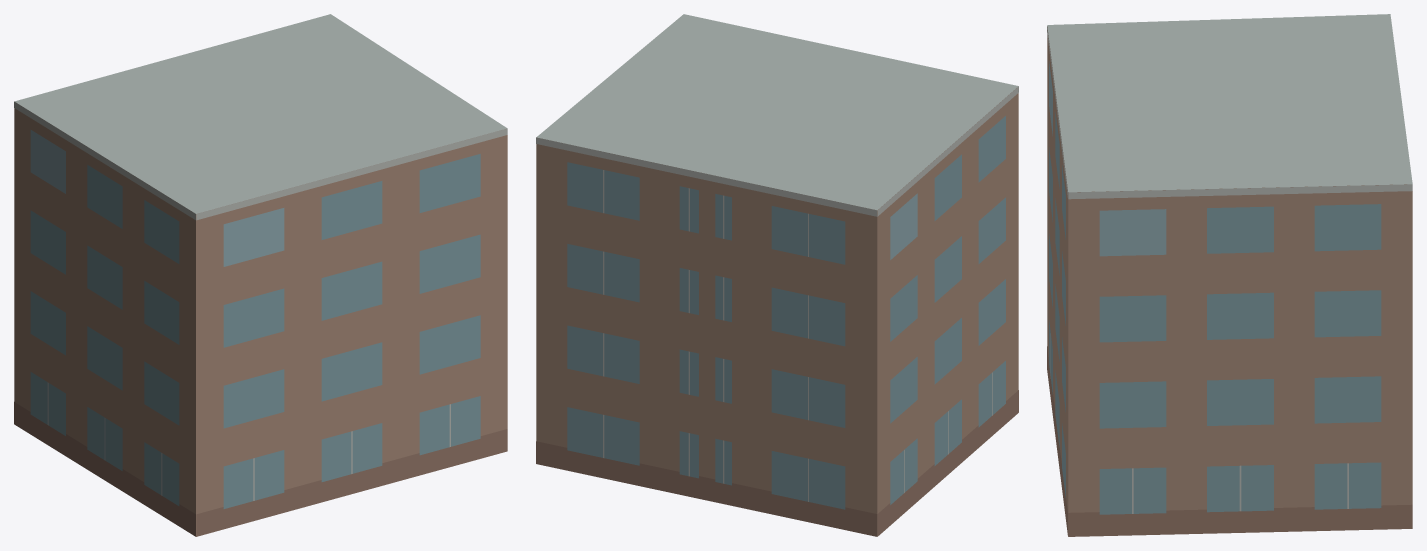
The model's file is survey-upis-32978214.glb.
3 renders of one model, left to right at view 1: azimuth 30°, elevation 25°; view 2: azimuth 150°, elevation 25°; view 3: azimuth 270°, elevation 25°, orthographic. The views are drawn at different scales.
Parts seen in each view (by area): view 1: survey-upis-32978214.tmp; view 2: survey-upis-32978214.tmp; view 3: survey-upis-32978214.tmp.
Boxes of the visible parts, bbox=[...] form: survey-upis-32978214.tmp: bbox=[14, 14, 507, 536]; survey-upis-32978214.tmp: bbox=[536, 14, 1018, 536]; survey-upis-32978214.tmp: bbox=[1047, 14, 1412, 536].
Size of the model in its own units: 13.55 by 12.2 by 11.74.
